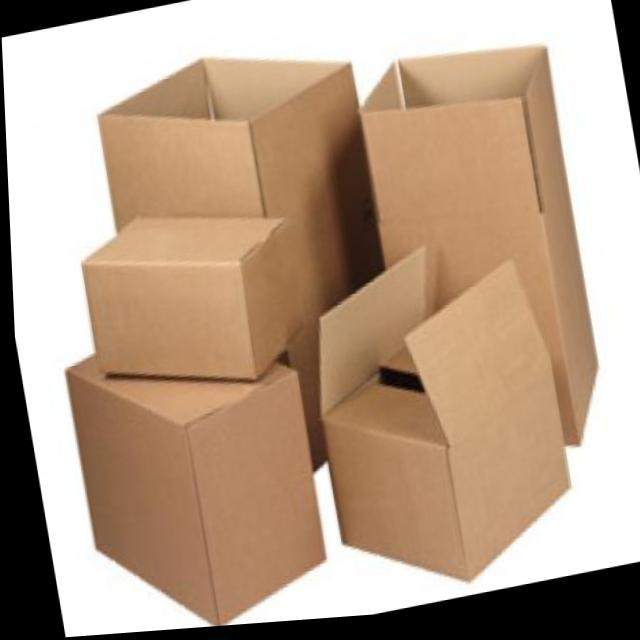box: (336, 13, 640, 499), (80, 25, 400, 380), (286, 255, 590, 624), (40, 308, 348, 638), (53, 189, 326, 439)
